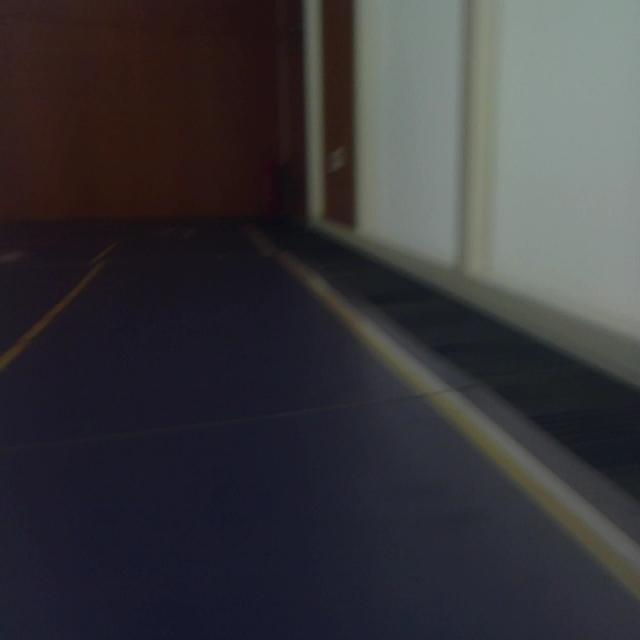left_lane: (0, 250, 113, 373)
right_lane: (260, 231, 640, 600)
